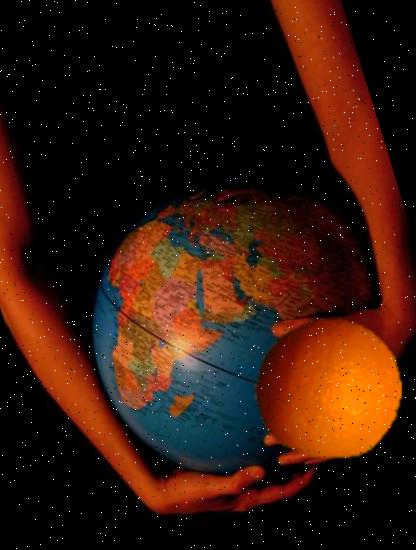Orange: (236, 295, 416, 479)
